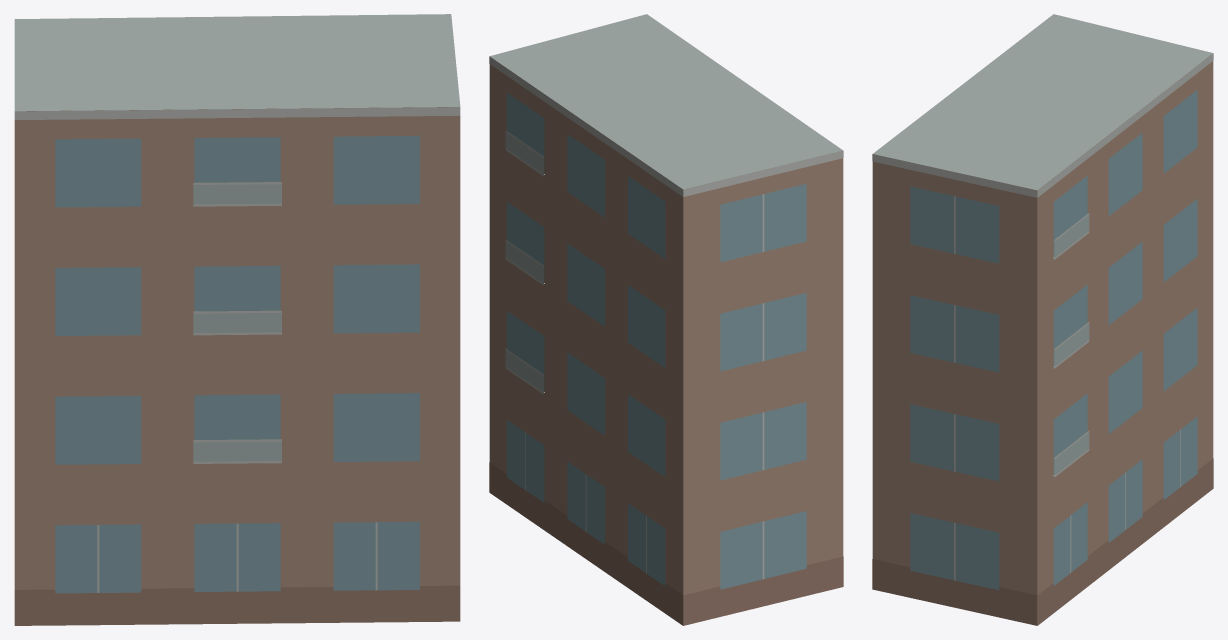
File: survey-upis-32730392.glb
3 renders of one model, left to right at view 1: azimuth 30°, elevation 25°; view 2: azimuth 150°, elevation 25°; view 3: azimuth 270°, elevation 25°, orthographic. The views are drawn at different scales.
Visible parts, largest first — view 1: survey-upis-32730392.tmp; view 2: survey-upis-32730392.tmp; view 3: survey-upis-32730392.tmp.
Boxes of the visible parts, bbox=[...] form: survey-upis-32730392.tmp: bbox=[14, 14, 460, 625]; survey-upis-32730392.tmp: bbox=[489, 14, 843, 625]; survey-upis-32730392.tmp: bbox=[872, 14, 1213, 625].
Bounding box in the file's own units: 12.26 × 14.1 × 10.01.
